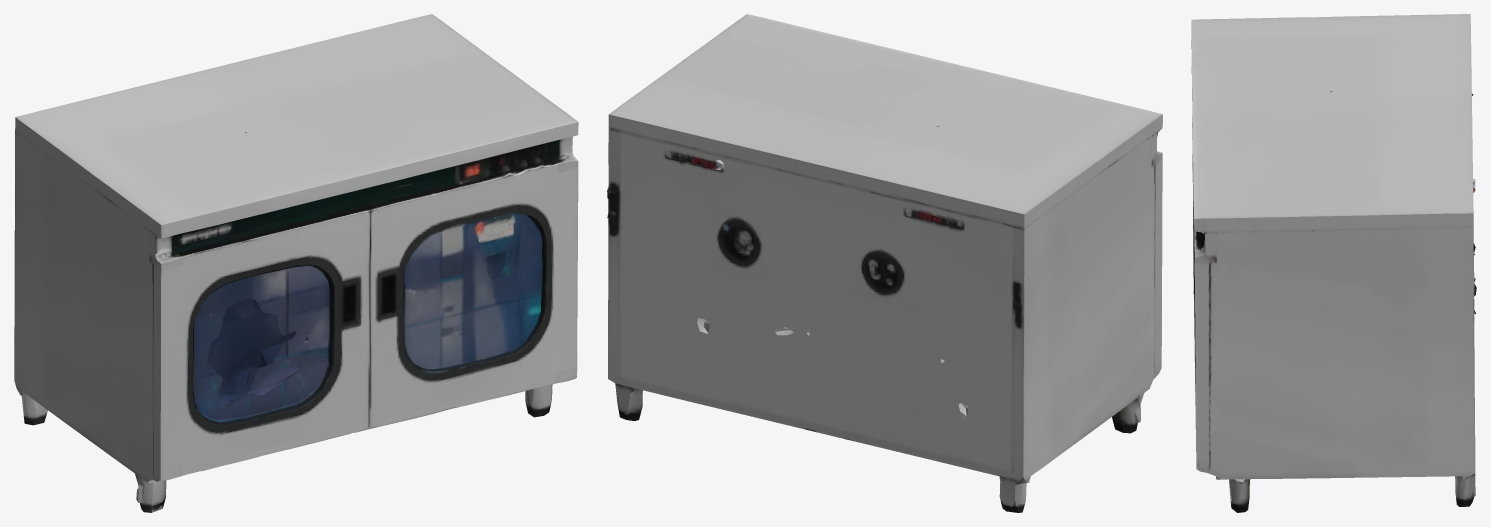
3 renders of one model, left to right at view 1: azimuth 30°, elevation 25°; view 2: azimuth 150°, elevation 25°; view 3: azimuth 270°, elevation 25°, orthographic. The views are drawn at different scales.
Bounding box in the file's own units: 1 × 0.7 × 0.6.
1 material, 1 textured.
